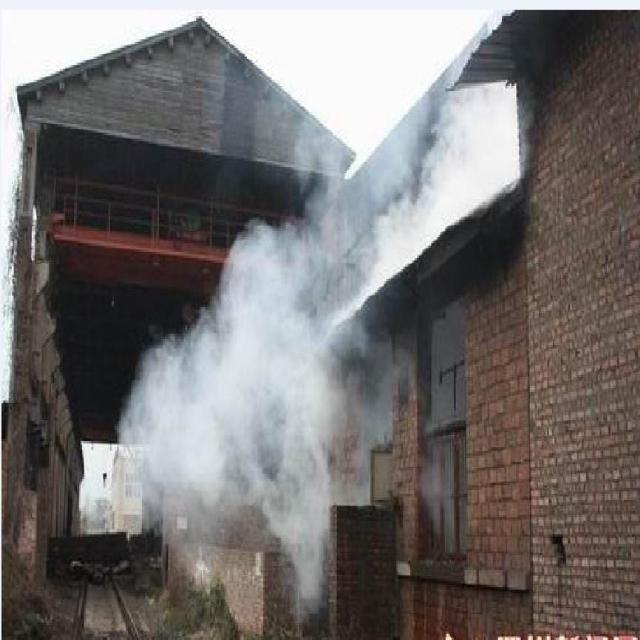Smoke: (115, 15, 532, 628)
